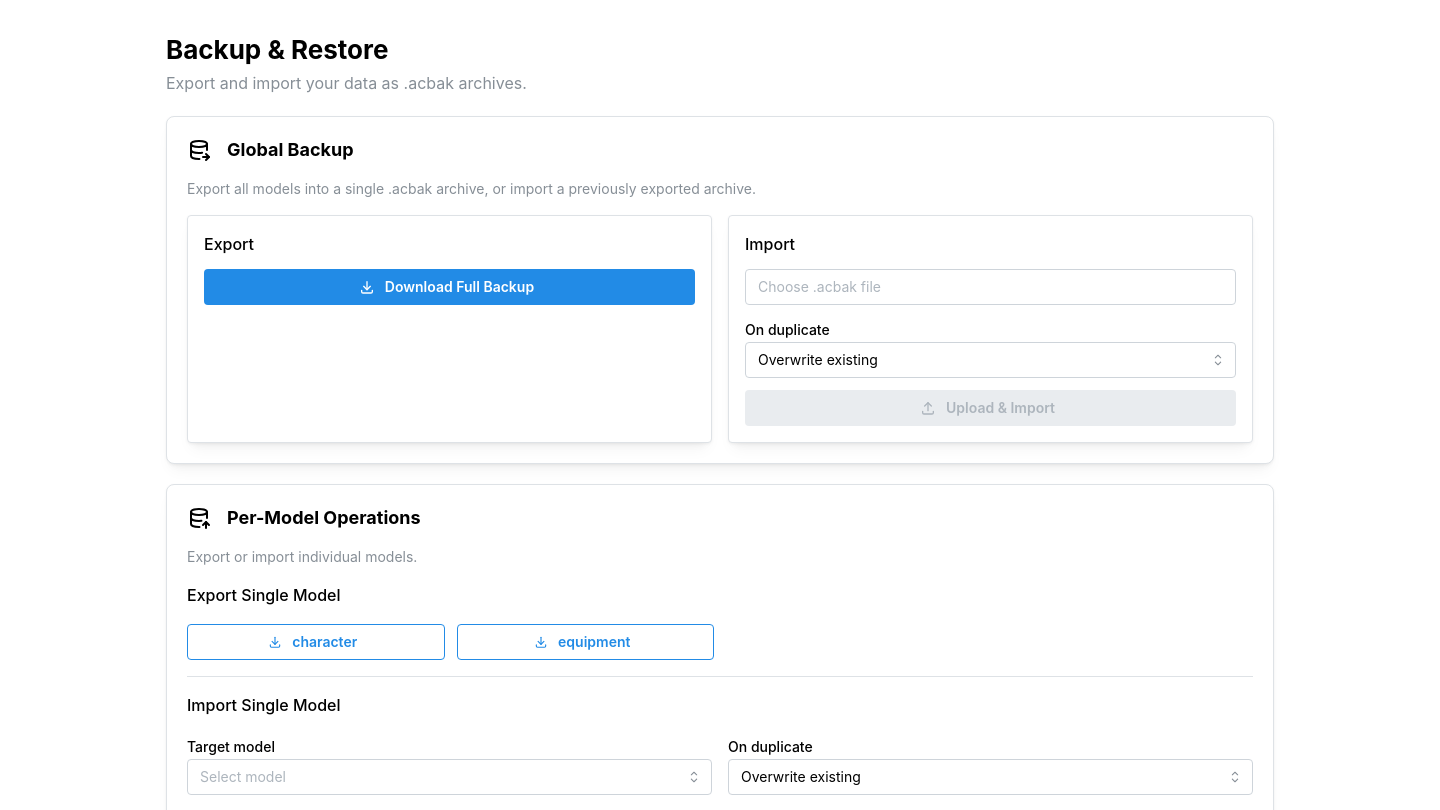
Test: BackupRestore › handles global export success
This screenshot has width=1440, height=810.
Click the button "Download Full Backup": (450, 287) [204, 269, 695, 305]
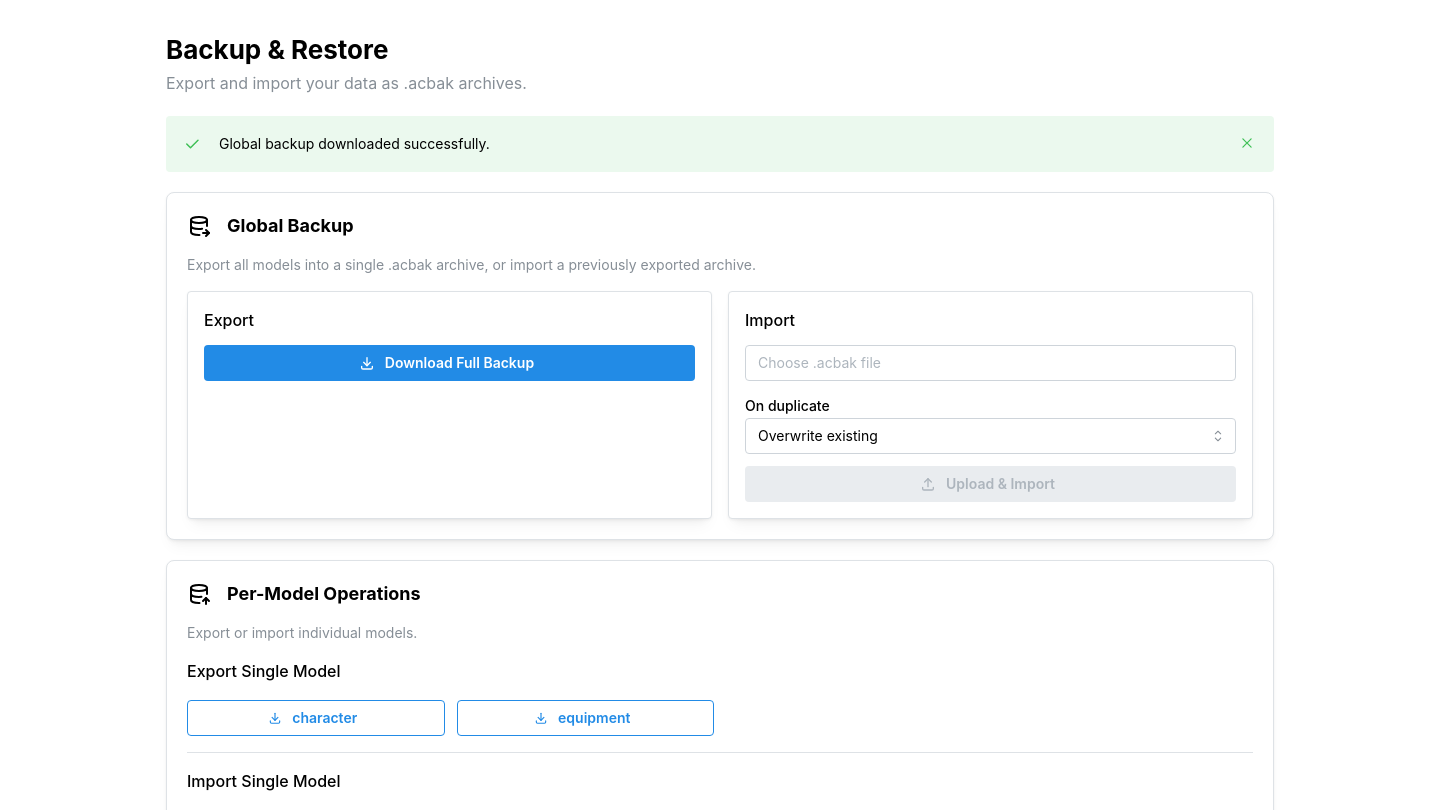
Now the text "Global backup downloaded successfully." is shown, box [219, 135, 490, 152]
